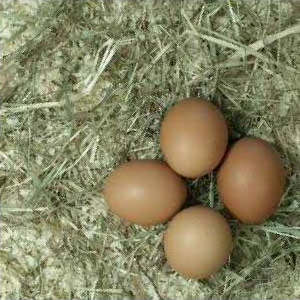egg: (216, 137, 285, 224), (161, 99, 230, 181), (104, 160, 188, 225), (163, 205, 232, 279)
